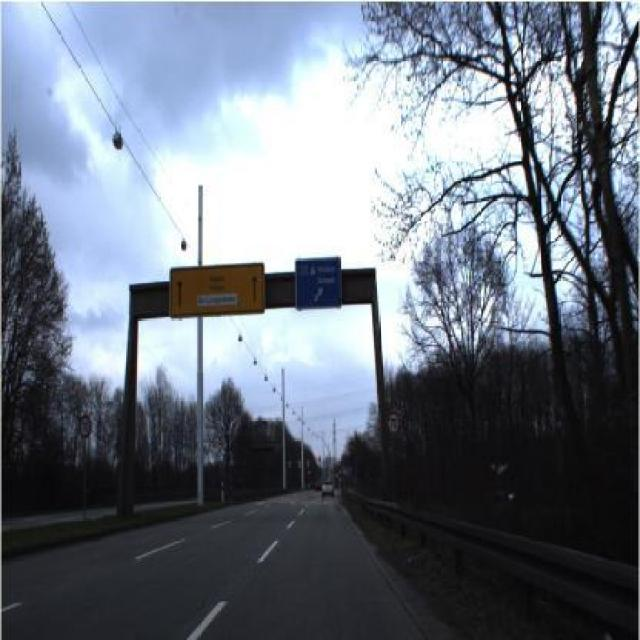traffic_sign: (384, 407, 404, 439), (77, 412, 95, 441)
